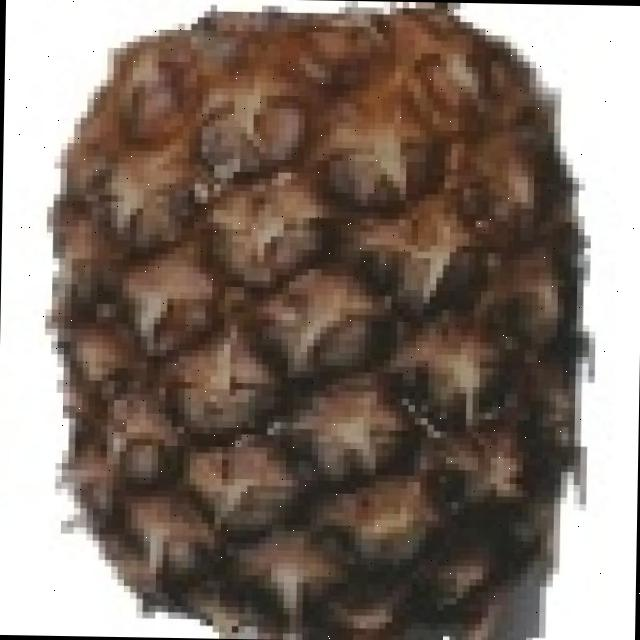pineapple: (45, 2, 571, 631)
